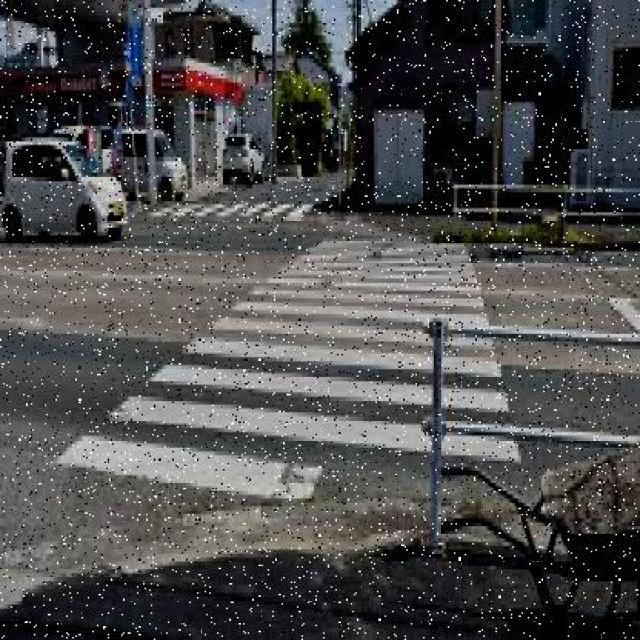crosswalk: (62, 239, 522, 499), (151, 203, 312, 222)
